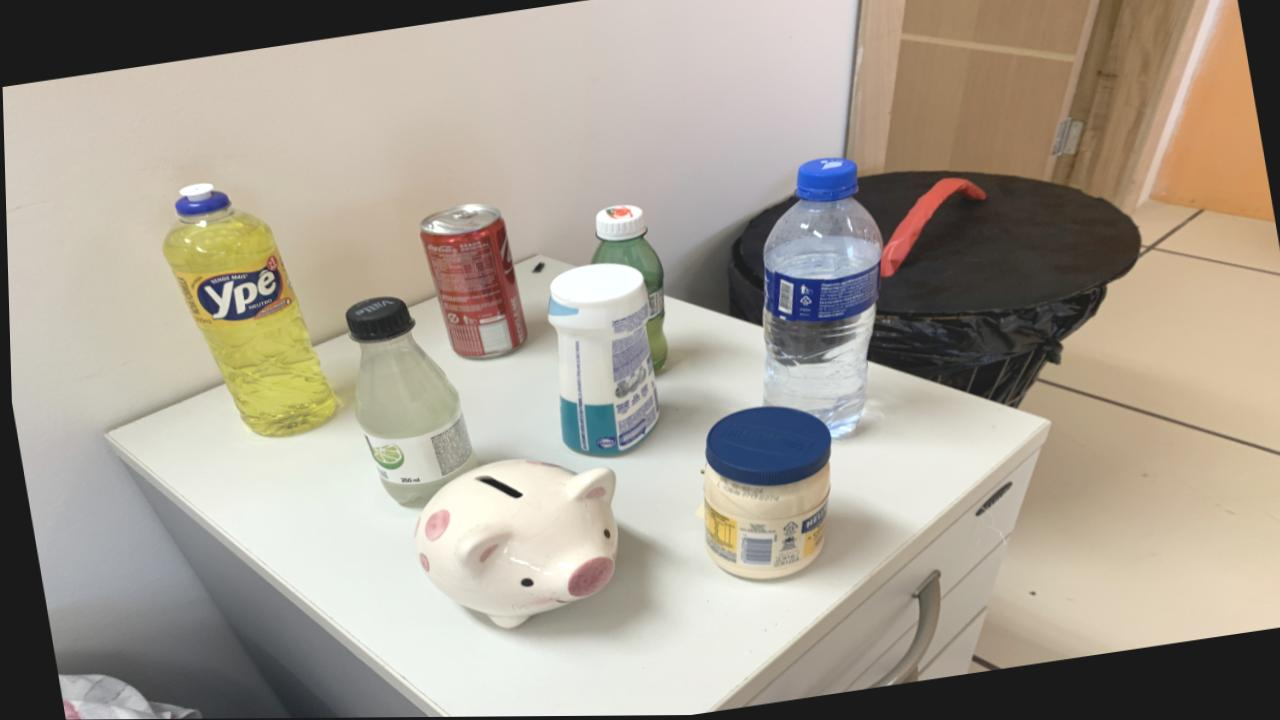Cleaner-Cleanup_Items: (545, 263, 657, 456)
Coke-Drinks: (417, 203, 524, 360)
Detergent-Cleanup_Items: (160, 182, 333, 437)
Guarana-Drinks: (589, 205, 666, 371)
Mayonnaise-Pantry_Items: (700, 407, 829, 580)
Pig_Safe-Miscellaneous: (410, 459, 615, 629)
Soda-Drinks: (343, 297, 474, 507)
Water_Bottle-Drinks: (760, 158, 881, 438)
